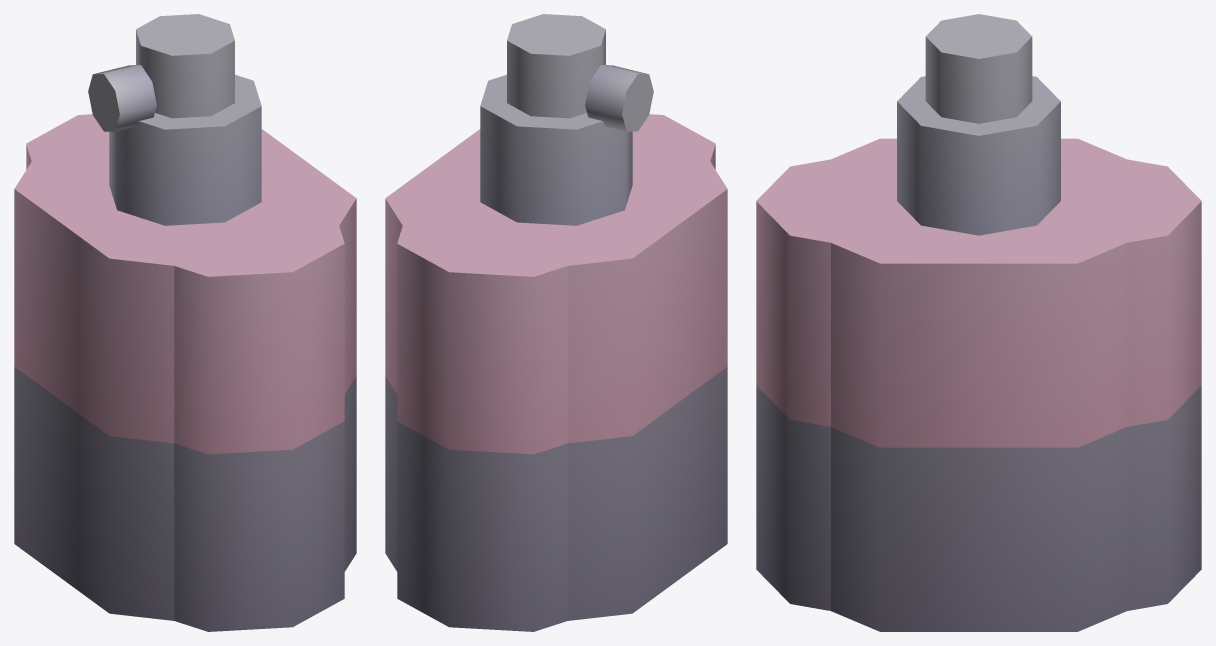
File: perfume-square.glb
3 renders of one model, left to right at view 1: azimuth 30°, elevation 25°; view 2: azimuth 150°, elevation 25°; view 3: azimuth 270°, elevation 25°, orthographic. The views are drawn at different scales.
Visible parts, largest first — view 1: perfume-square; view 2: perfume-square; view 3: perfume-square.
Part boxes in pixels (<box>): perfume-square: <box>14,14,356,631</box>; perfume-square: <box>385,14,727,631</box>; perfume-square: <box>756,14,1201,631</box>.
Size of the model in its own units: 0.1345 by 0.2671 by 0.2024.
